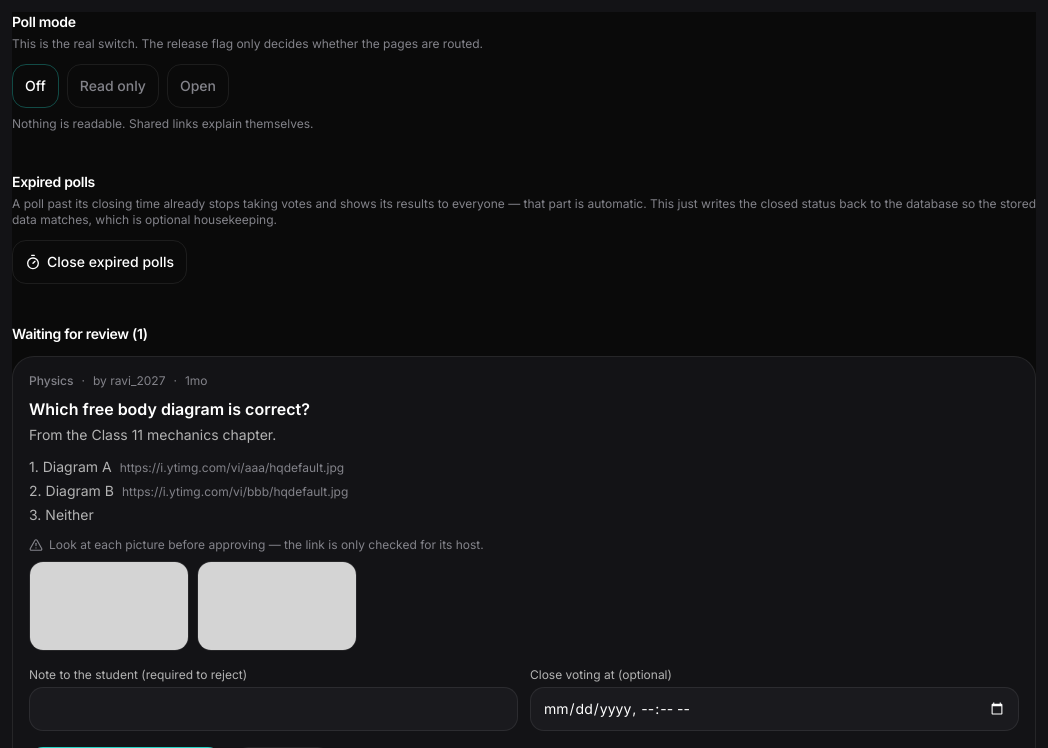
Scenario: the poll mode switch › opens polls and explains what the chosen mode means
Expected: the text "Nothing is readable. Shared links explain themselves." is shown, x1=12 y1=116 x2=314 y2=131
Step 1. Click the button "Open" → click(198, 86), box x1=167 y1=64 x2=229 y2=108
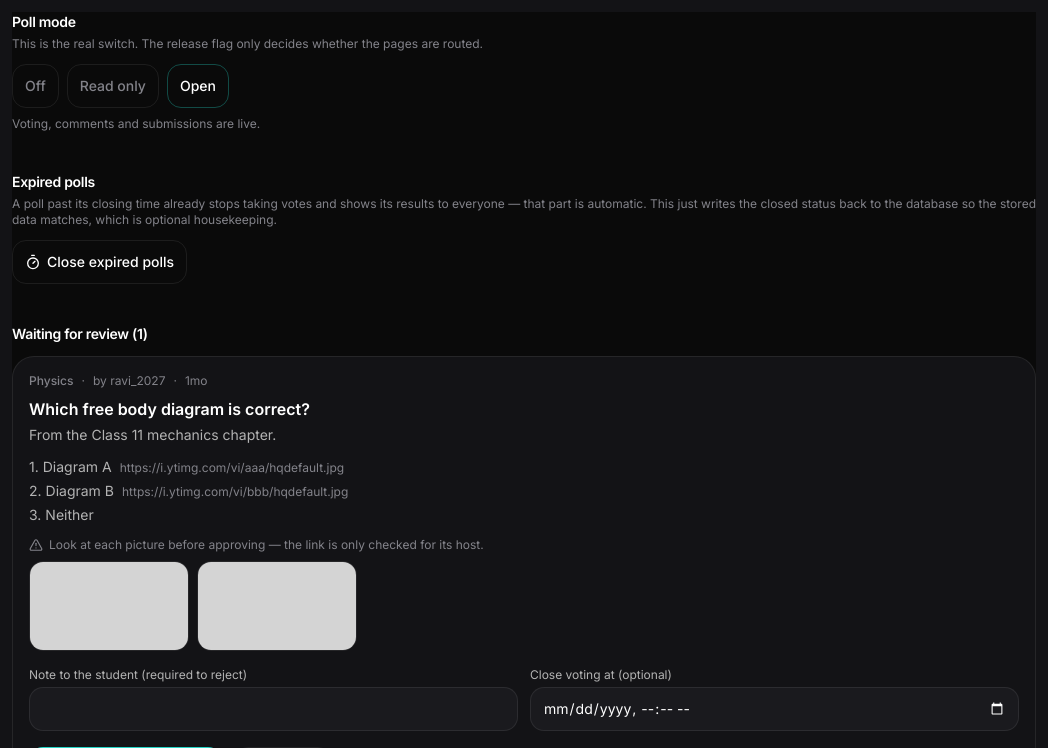
Result: the text "Voting, comments and submissions are live." is shown at x1=12 y1=116 x2=260 y2=131
